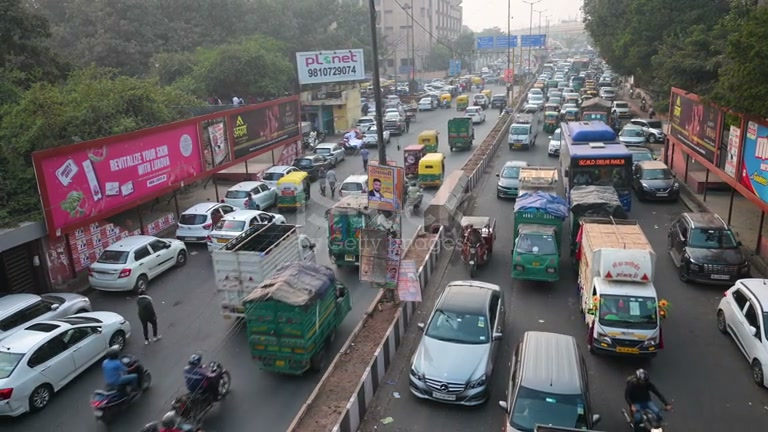bus: (560, 132, 634, 214), (510, 190, 572, 282)
car: (0, 309, 131, 419), (408, 279, 507, 406), (499, 331, 602, 431), (87, 234, 188, 295), (667, 210, 748, 285), (715, 277, 768, 388), (0, 291, 93, 337), (205, 209, 282, 250), (511, 226, 562, 283), (175, 200, 236, 242), (260, 164, 312, 207), (632, 159, 681, 202), (223, 180, 278, 212), (261, 165, 309, 194), (495, 160, 528, 200), (292, 154, 333, 180), (312, 142, 346, 168), (338, 174, 369, 198), (619, 125, 648, 147), (547, 129, 562, 158), (465, 107, 486, 123)
motorcycle: (88, 356, 152, 418), (183, 354, 231, 401), (626, 398, 669, 431)
pedestrian: (624, 368, 670, 431), (136, 293, 159, 344)
truck: (241, 261, 352, 378), (576, 217, 662, 357), (207, 219, 314, 319), (326, 193, 401, 267), (447, 117, 474, 152)
